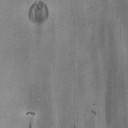slag inclusion: (28, 0, 50, 26), (91, 110, 98, 116), (25, 112, 35, 115), (29, 120, 32, 126)
